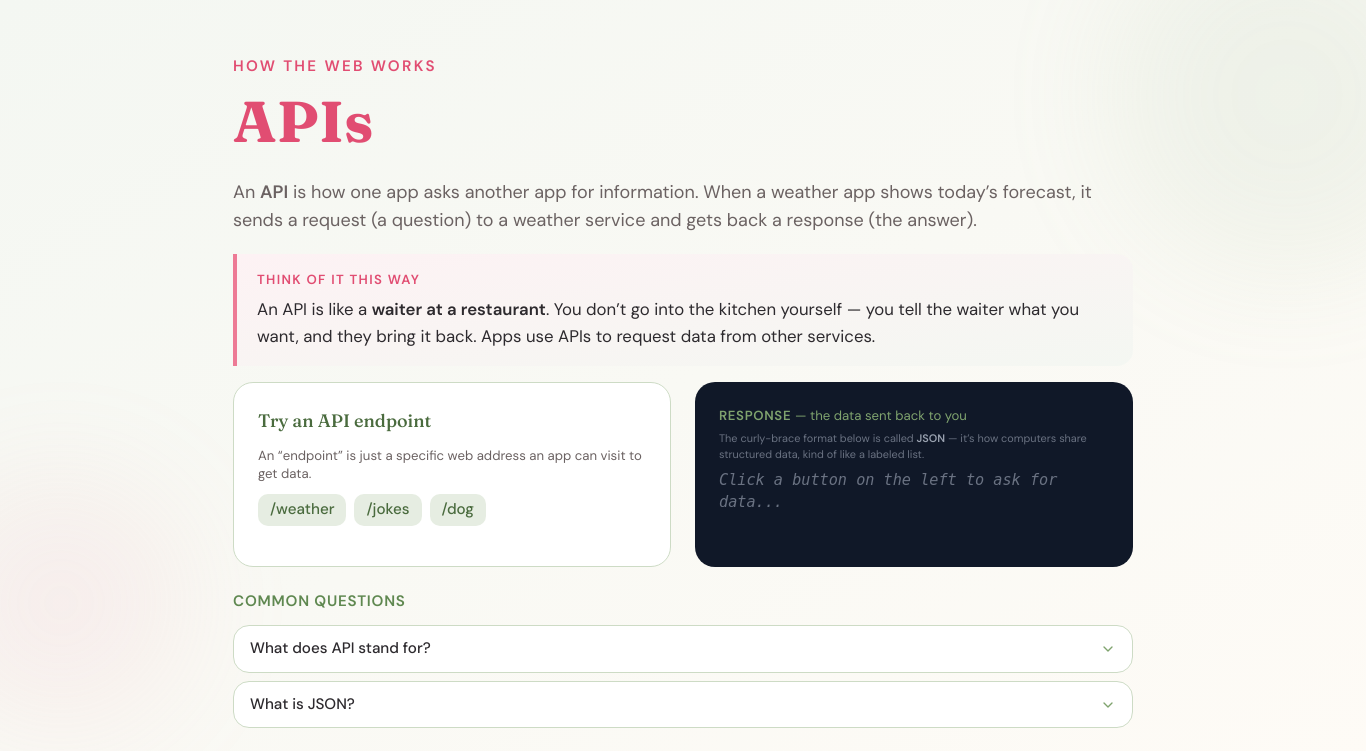
Test case: ApisSlide › shows weather response when /weather clicked
Click the button "/weather".
click(302, 510)  # box [258,494,346,526]
Wait 2000 ms
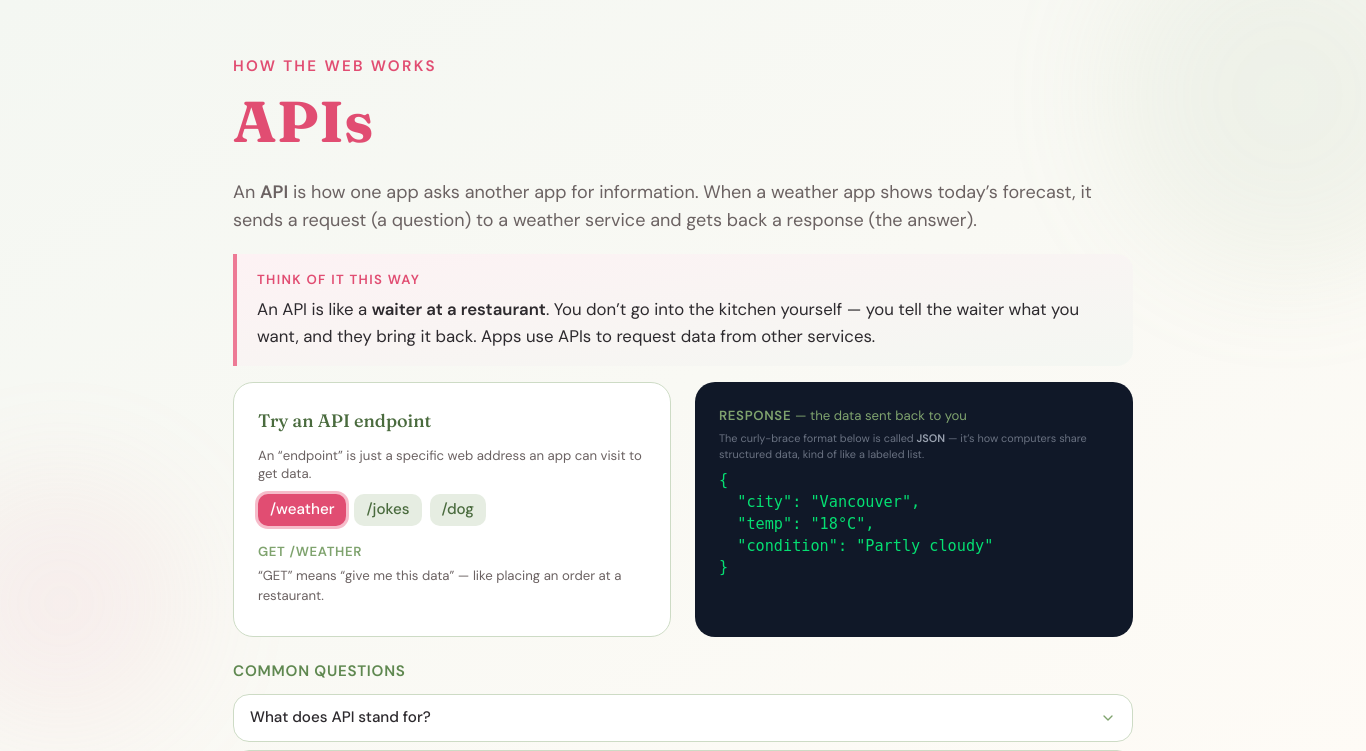
Now the text "Partly cloudy" is shown, box [719,472,993,576]
